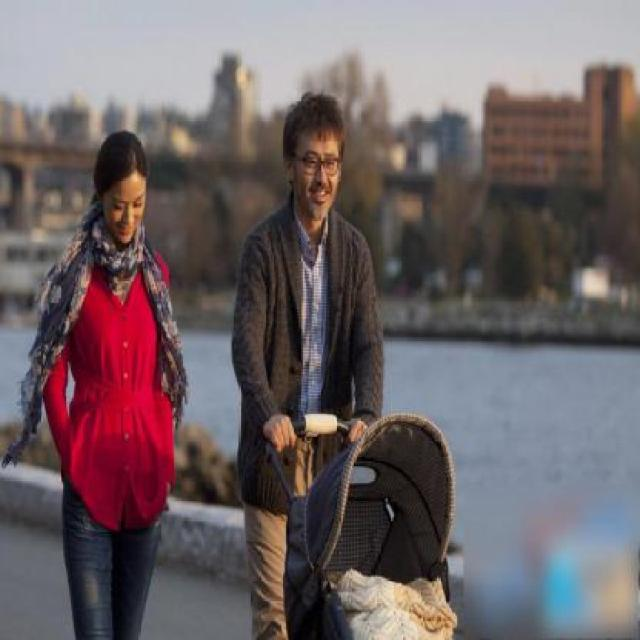Person: (228, 81, 383, 639), (51, 118, 178, 639)
